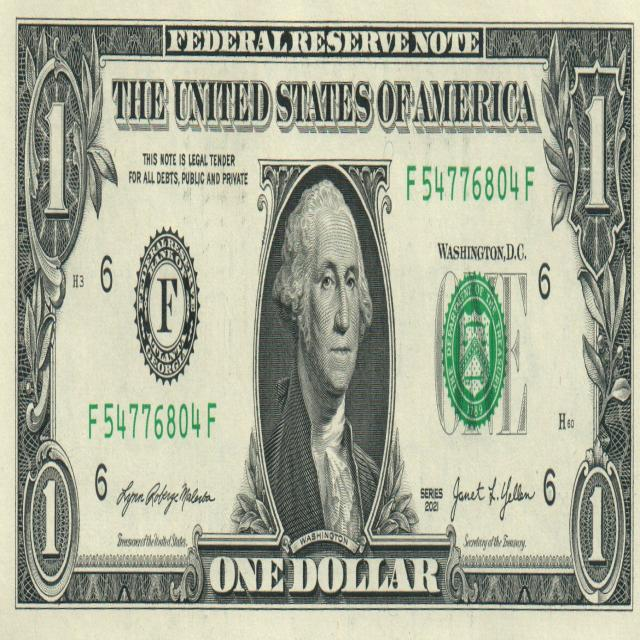SerialNumber: (89, 403, 200, 440), (407, 165, 520, 201)
